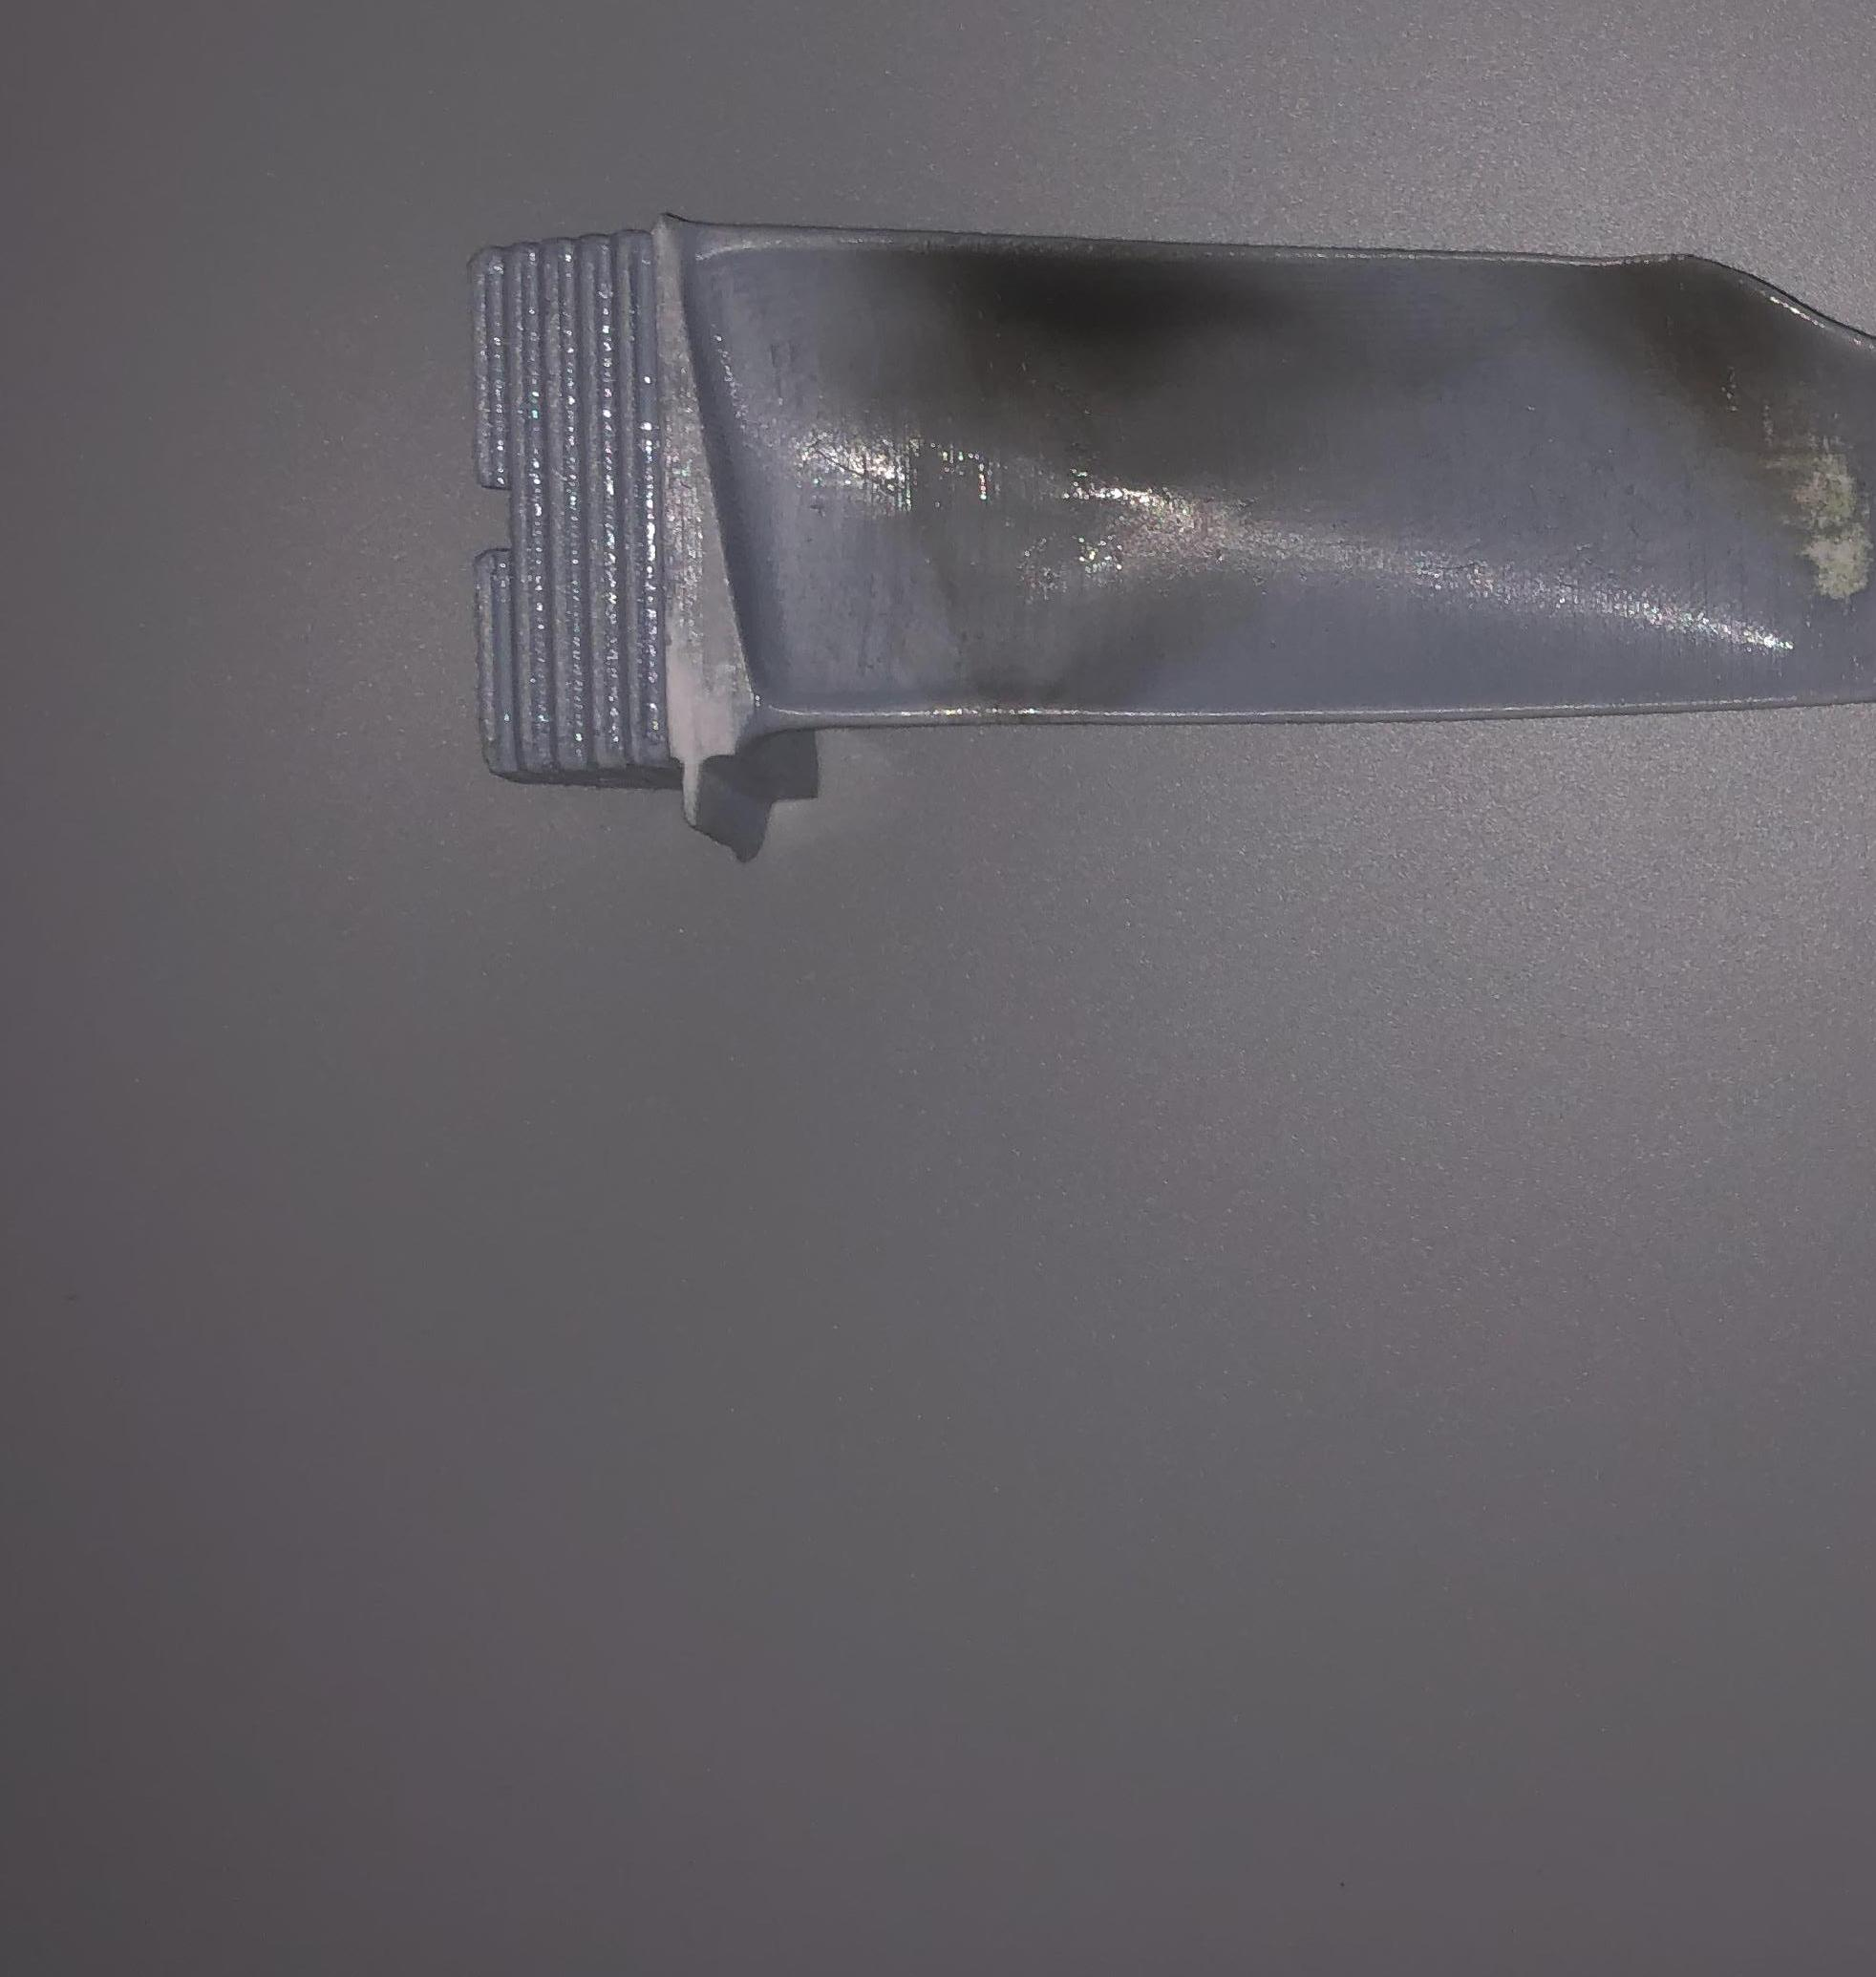ablation: (1640, 270, 1857, 547), (952, 240, 1247, 422)
